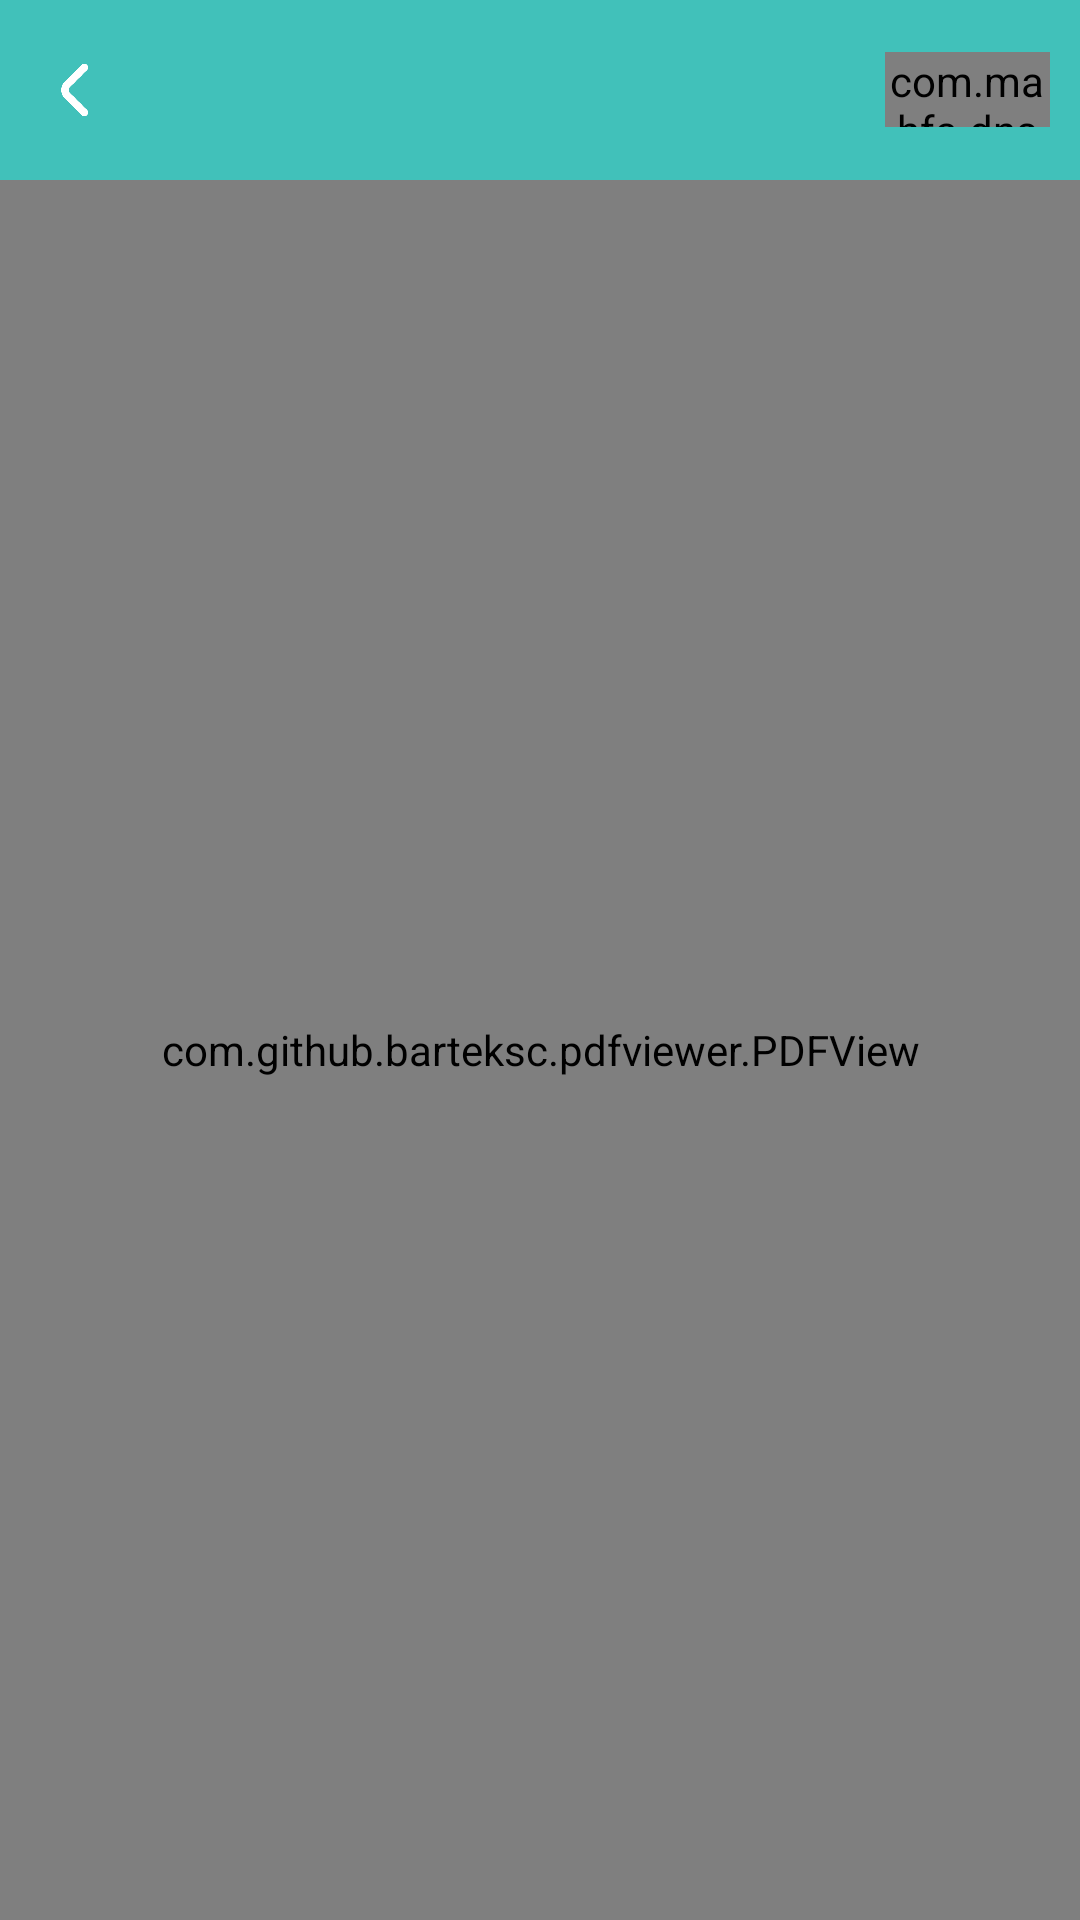

Screen size 1080w x 1920h. Icon name, then its box in pixels as (x1, y1, x2, y2):
back: (61, 64, 88, 116)
